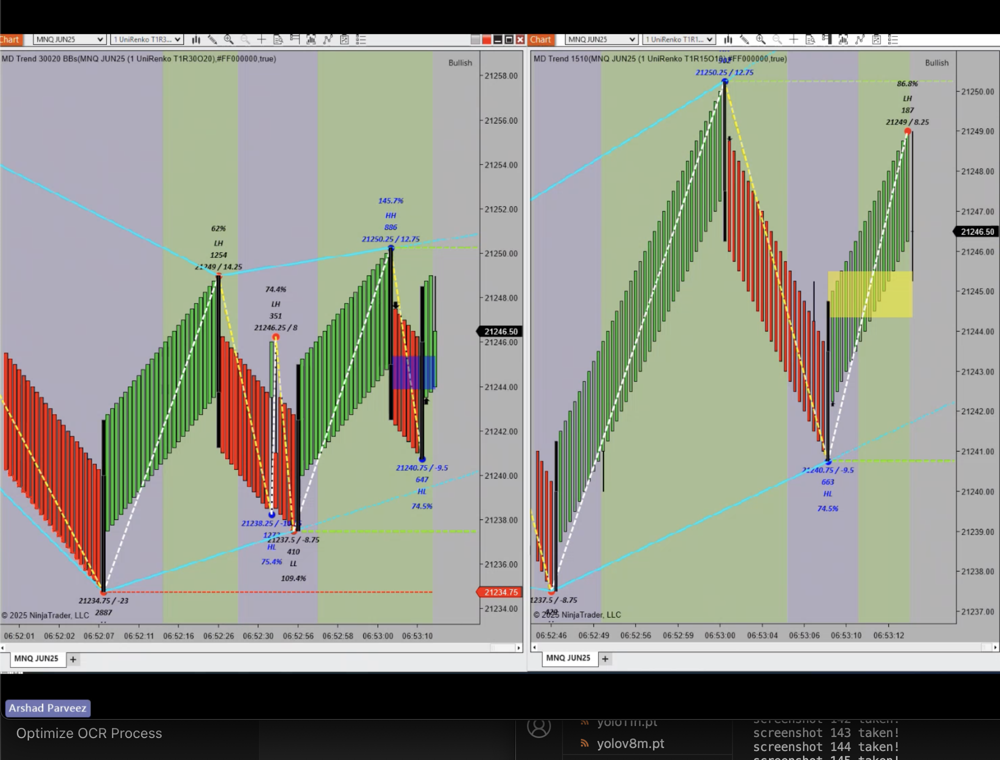HH: (380, 209, 409, 229)
HL: (817, 480, 840, 504), (260, 538, 284, 558), (410, 484, 431, 499)
LH: (264, 296, 290, 316), (206, 238, 231, 255), (897, 86, 917, 107)
LL: (282, 555, 307, 573)
